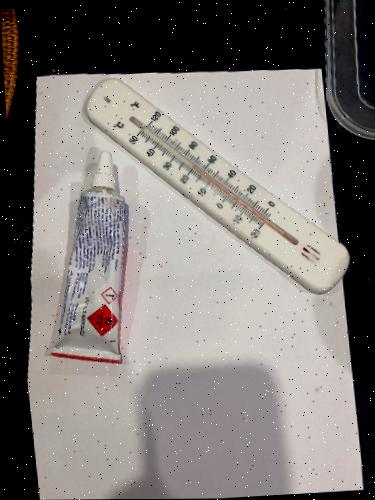thermo: (83, 66, 351, 294)
